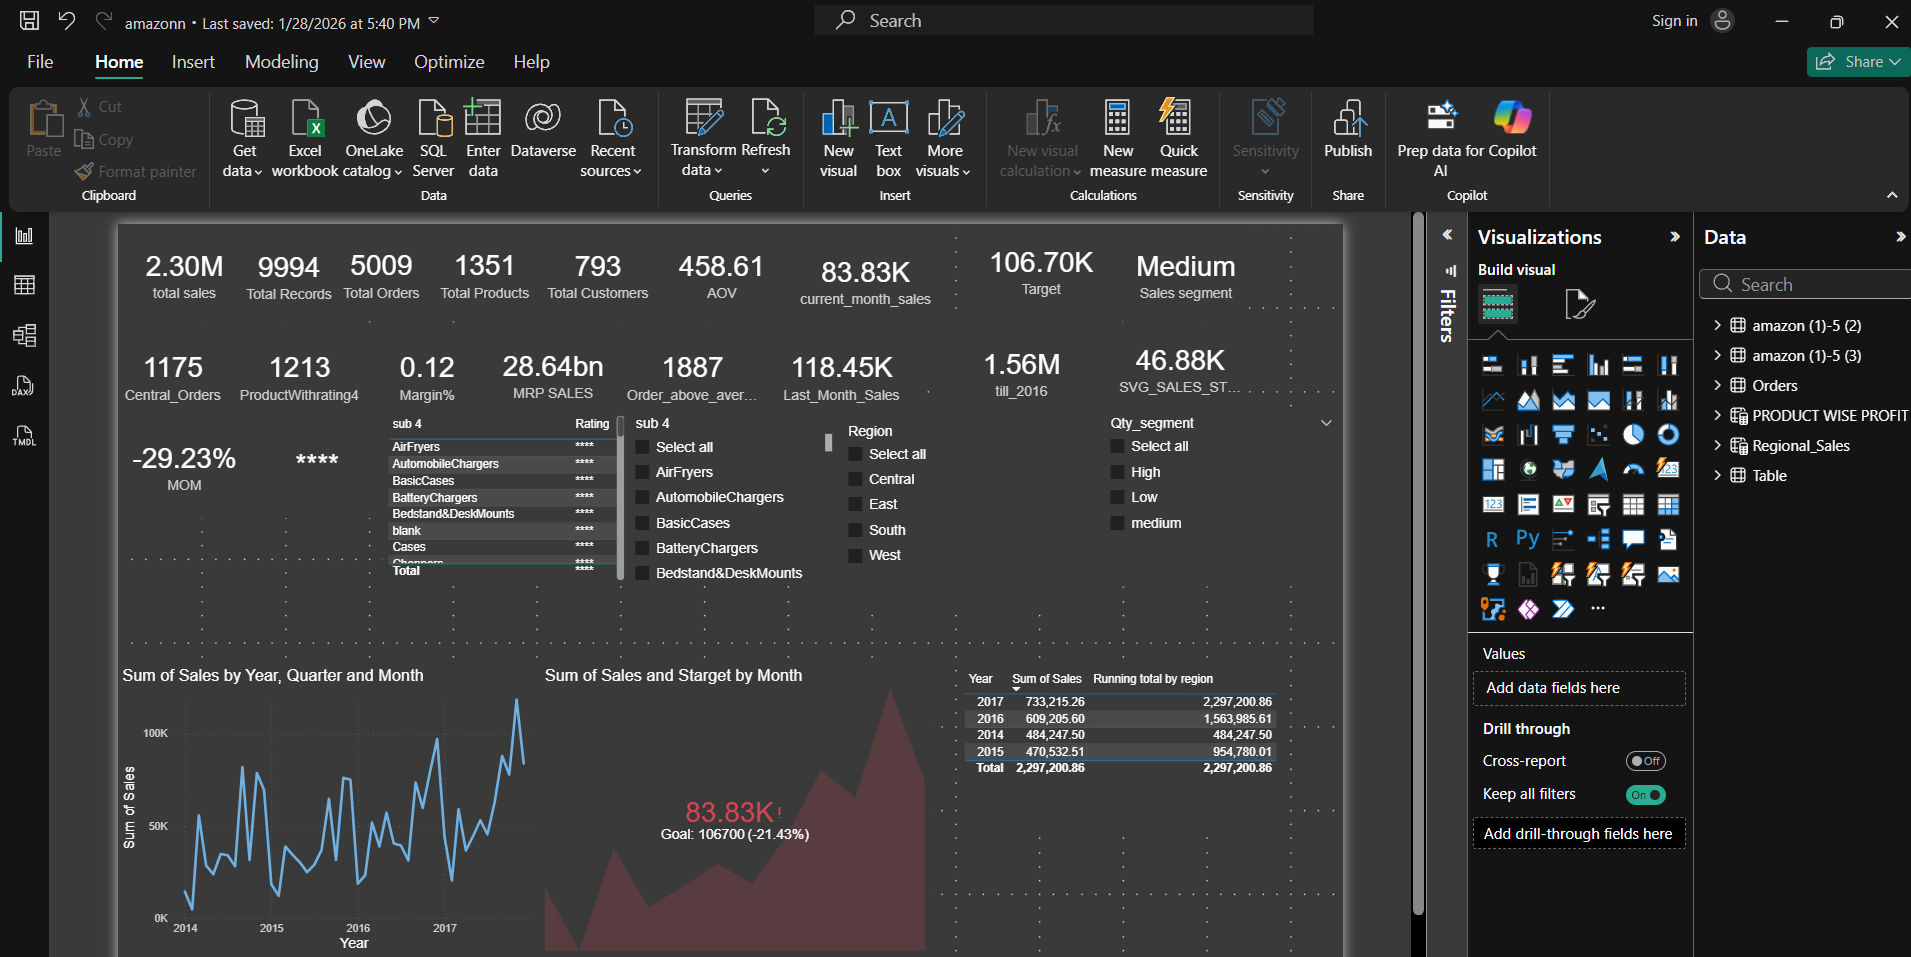

This screenshot's page, from the dashboard's own definition file:
{"tool":"powerbi","page":{"name":"Page 1","canvas":[1400,1010],"ordinal":0},"visuals":[{"type":"card","fields":{"Values":["Orders.total sales"]},"box":[0,0,152.5,112.5],"z":0},{"type":"card","fields":{"Values":["Orders.Total Records"]},"box":[136.2,1.2,120,111.2],"z":1000},{"type":"card","fields":{"Values":["Orders.Total Orders"]},"box":[246.2,0,111.2,111.2],"z":2000},{"type":"card","fields":{"Values":["amazon (1)-5 (2).Total Products"]},"box":[357.3,0,124.7,111.3],"z":3000},{"type":"card","fields":{"Values":["Orders.Total Customers"]},"box":[482,0,134.7,112],"z":4000},{"type":"card","fields":{"Values":["Orders.Central_Orders"]},"box":[0,112.6,125.6,118.5],"z":5000},{"type":"card","fields":{"Values":["amazon (1)-5 (2).ProductWithrating5"]},"box":[125.6,112.6,163.6,118.5],"z":6000},{"type":"card","fields":{"Values":["Orders.Margin%"]},"box":[288,112.6,130.4,118.5],"z":7000},{"type":"card","fields":{"Values":["Orders.MRP SALES"]},"box":[419.6,110.2,155.3,120.9],"z":8000},{"type":"card","fields":{"Values":["Orders.Order_above_average"]},"box":[574.8,112.6,164.7,118.5],"z":9000},{"type":"card","fields":{"Values":["Orders.current_month_sales"]},"box":[757.5,0,195,126.2],"z":10000},{"type":"card","fields":{"Values":["Orders.AOV"]},"box":[616.3,0,149.3,112.6],"z":11000},{"type":"lineChart","fields":{"Category":["Orders.Order Date.Variation.Date Hierarchy.Year","Orders.Order Date.Variation.Date Hierarchy.Quarter","Orders.Order Date.Variation.Date Hierarchy.Month","Orders.Order Date.Variation.Date Hierarchy.Day"],"Y":["Sum(Orders.Sales)"]},"box":[0,505.7,482.9,330],"z":12000},{"type":"card","fields":{"Values":["Orders.Last_Month_Sales"]},"box":[739.6,112.6,174.2,118.5],"z":13000},{"type":"card","fields":{"Values":["Orders.Target"]},"box":[961.2,0,187.5,103.8],"z":14000},{"type":"kpi","fields":{"Goal":["Orders.Starget"],"Indicator":["Sum(Orders.Sales)"],"TrendLine":["Orders.Order Date.Variation.Date Hierarchy.Month"]},"box":[482.9,505.7,444.3,330],"z":15000},{"type":"card","fields":{"Values":["Orders.MOM"]},"box":[0,213.8,152.5,122.5],"z":16000},{"type":"card","fields":{"Values":["Orders.till_2016"]},"box":[930,104.3,205.7,127.1],"z":17000},{"type":"tableEx","fields":{"Values":["Orders.Order Date.Variation.Date Hierarchy.Year","Sum(Orders.Sales)","Orders.Running total by region"]},"box":[961.4,505.7,367.1,194.3],"z":18000},{"type":"card","fields":{"Values":["Orders.Ratng"]},"box":[152.5,211.2,150,125],"z":19000},{"type":"tableEx","fields":{"Values":["amazon (1)-5 (2).sub 4","Orders.Rating"]},"box":[302.5,213.8,281.2,197.5],"z":20000},{"type":"slicer","fields":{"Values":["amazon (1)-5 (2).sub 4"]},"box":[578.8,213.8,242.5,197.5],"z":21000},{"type":"card","fields":{"Values":["amazon (1)-5 (2).Sales segment"]},"box":[1148.6,0,144.3,112.9],"z":22000},{"type":"slicer","fields":{"Values":["Orders.Region"]},"box":[821.4,222.9,300,212.9],"z":23000},{"type":"slicer","fields":{"Values":["Orders.Qty_segment"]},"box":[1121.4,214.3,278.6,200],"z":24000},{"type":"card","fields":{"Values":["Orders.SVG_SALES_STATE"]},"box":[1135.7,112.9,157.1,101.4],"z":25000}]}

Visuals, with their boxes on the page's 1400x1010 design canvas (x1, y1, x2, y2). These are canvas units, not pixel positions in the 1911x957 screenshot, which may show the page scaled, cropped or inside an application window:
card - Orders.total sales: detection(0, 0, 152, 112)
card - Orders.Total Records: detection(136, 1, 256, 112)
card - Orders.Total Orders: detection(246, 0, 357, 111)
card - amazon (1)-5 (2).Total Products: detection(357, 0, 482, 111)
card - Orders.Total Customers: detection(482, 0, 617, 112)
card - Orders.Central_Orders: detection(0, 113, 126, 231)
card - amazon (1)-5 (2).ProductWithrating5: detection(126, 113, 289, 231)
card - Orders.Margin%: detection(288, 113, 418, 231)
card - Orders.MRP SALES: detection(420, 110, 575, 231)
card - Orders.Order_above_average: detection(575, 113, 740, 231)
card - Orders.current_month_sales: detection(758, 0, 952, 126)
card - Orders.AOV: detection(616, 0, 766, 113)
lineChart - Orders.Order Date.Variation.Date Hierarchy.Year x Orders.Order Date.Variation.Date Hierarchy.Quarter: detection(0, 506, 483, 836)
card - Orders.Last_Month_Sales: detection(740, 113, 914, 231)
card - Orders.Target: detection(961, 0, 1149, 104)
kpi - Orders.Starget x Sum(Orders.Sales): detection(483, 506, 927, 836)
card - Orders.MOM: detection(0, 214, 152, 336)
card - Orders.till_2016: detection(930, 104, 1136, 231)
tableEx - Orders.Order Date.Variation.Date Hierarchy.Year x Sum(Orders.Sales): detection(961, 506, 1328, 700)
card - Orders.Ratng: detection(152, 211, 302, 336)
tableEx - amazon (1)-5 (2).sub 4 x Orders.Rating: detection(302, 214, 584, 411)
slicer - amazon (1)-5 (2).sub 4: detection(579, 214, 821, 411)
card - amazon (1)-5 (2).Sales segment: detection(1149, 0, 1293, 113)
slicer - Orders.Region: detection(821, 223, 1121, 436)
slicer - Orders.Qty_segment: detection(1121, 214, 1400, 414)
card - Orders.SVG_SALES_STATE: detection(1136, 113, 1293, 214)
